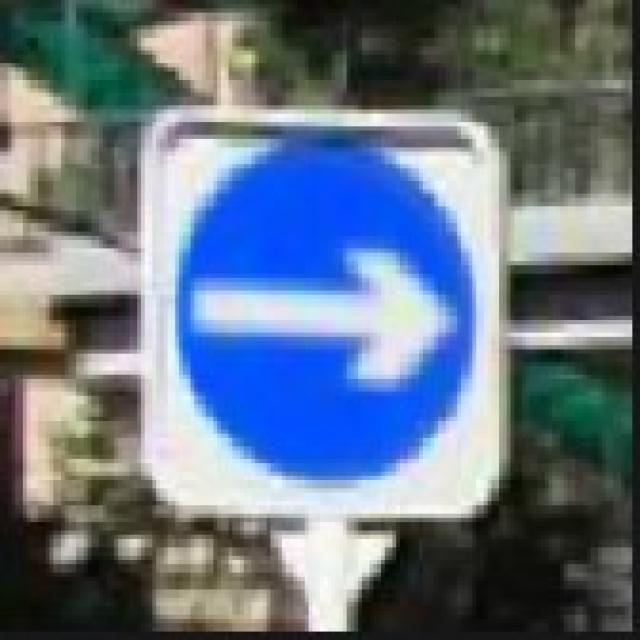Turn Right: (161, 155, 477, 483)
